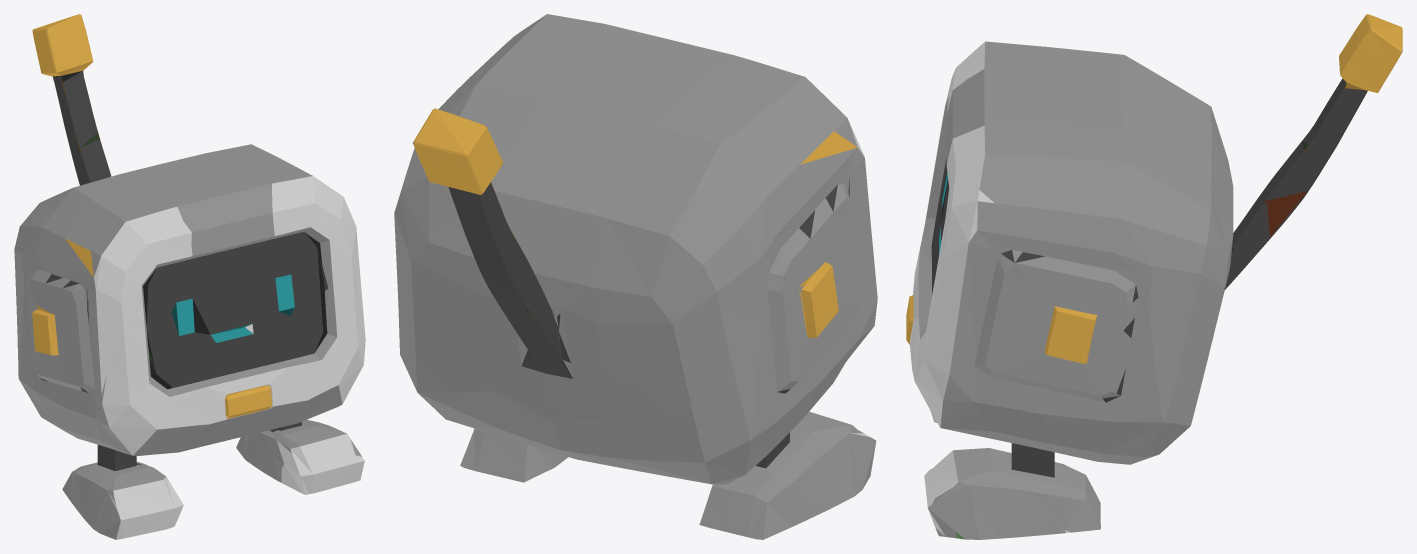
The model's file is null_pet.glb.
3 views of the same model, side by side, from view 1: azimuth 30°, elevation 25°; view 2: azimuth 150°, elevation 25°; view 3: azimuth 270°, elevation 25° (orthographic). The views are drawn at different scales.
Visible parts, largest first — view 1: node_0; view 2: node_0; view 3: node_0.
Part boxes in pixels (x1,y1,x2,y2): node_0: (14, 14, 365, 539); node_0: (394, 14, 877, 539); node_0: (906, 14, 1402, 539).
Bounding box in the file's own units: 0.818 × 0.9939 × 1.
